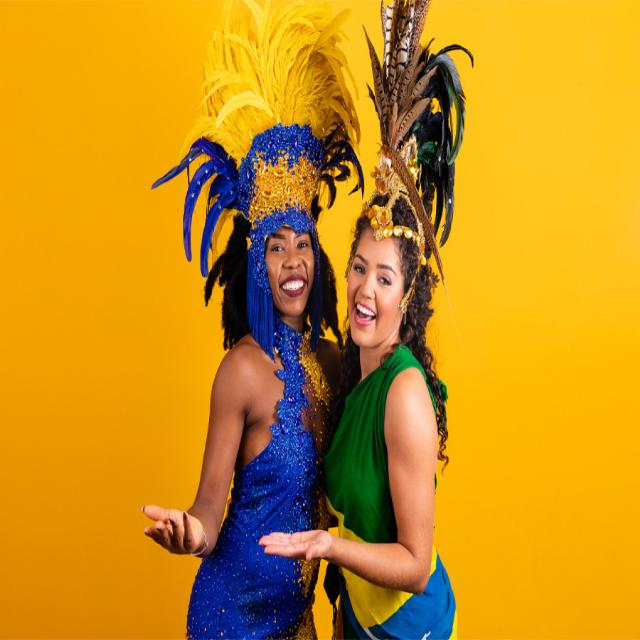Phasianus Colchicus: (362, 26, 387, 122), (390, 75, 400, 106)
